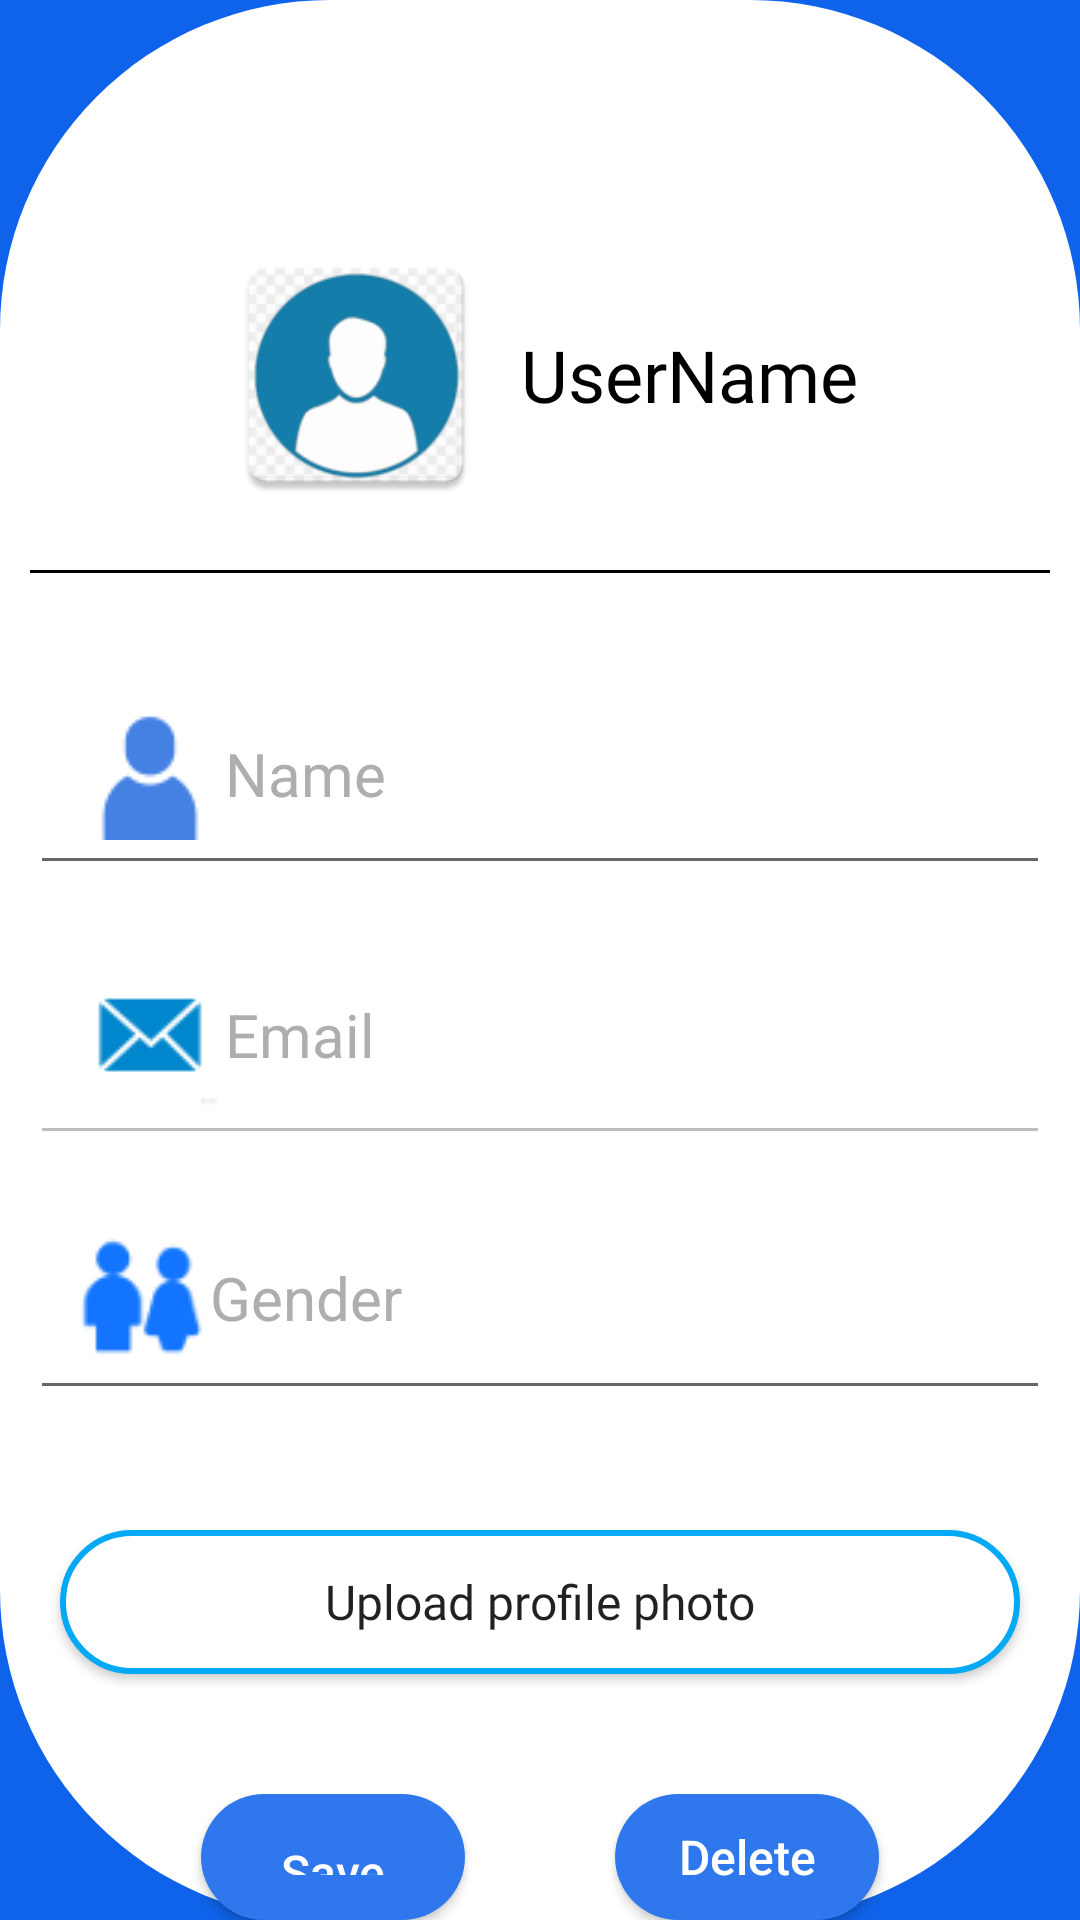

Icon bounding boxes for this 1080x1920 phone screenshot, format BBox(x1, y1, x2, y2):
profile: BBox(249, 273, 464, 489)
